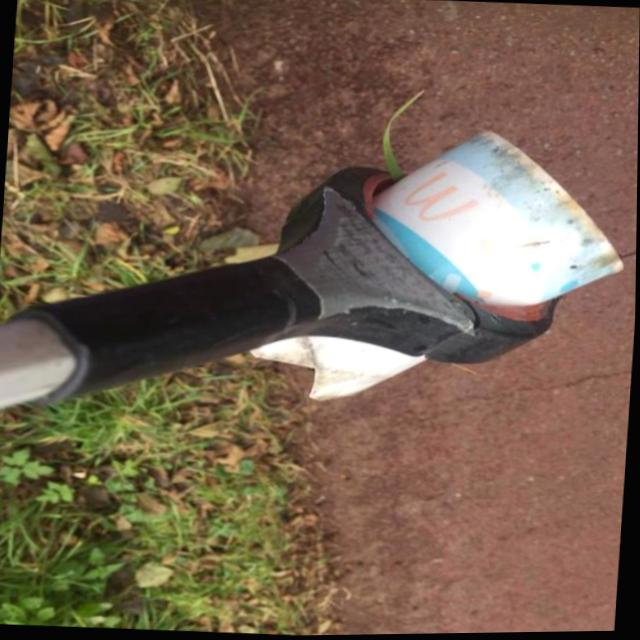Paper: (241, 114, 637, 422)
